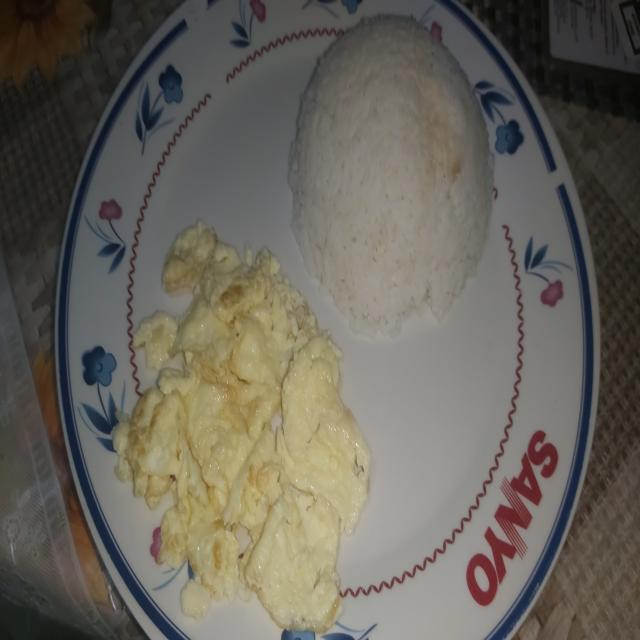Chicken -Chicken Inasal-: (294, 13, 492, 320)
